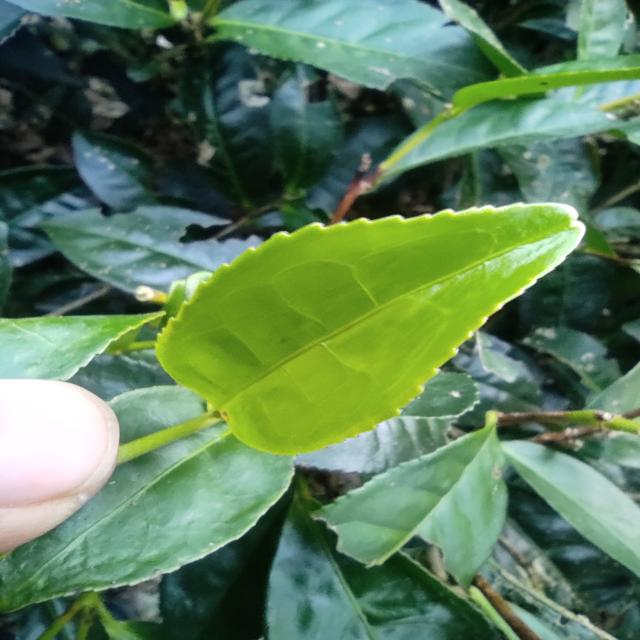Category C 4-7 days: (61, 130, 613, 477)
